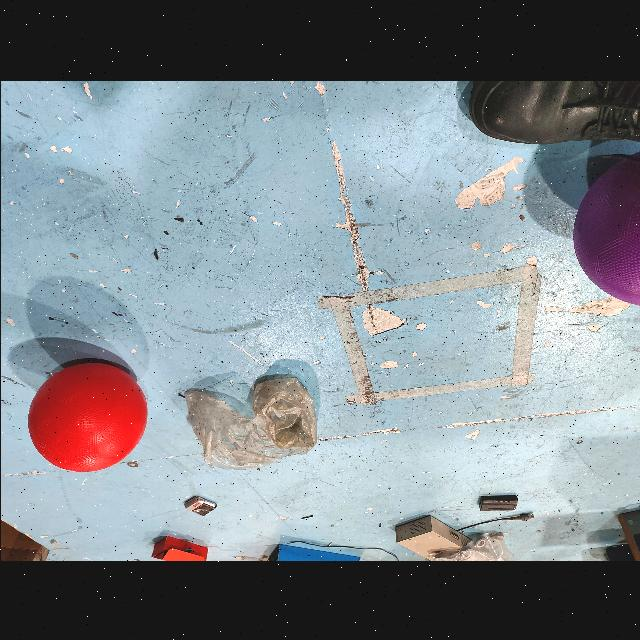P: (570, 144, 640, 306)
R: (26, 360, 148, 472)
